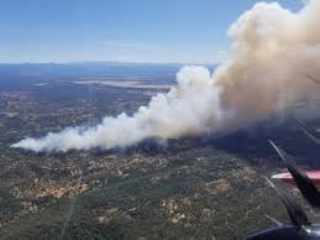smoke: (11, 52, 303, 162)
